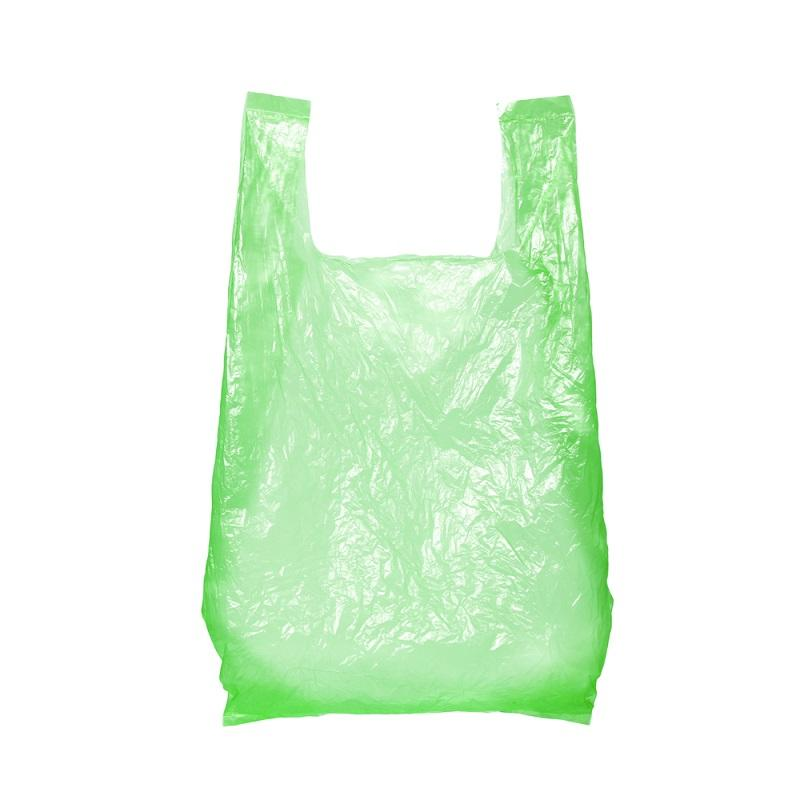LDPE: (197, 89, 618, 727)
